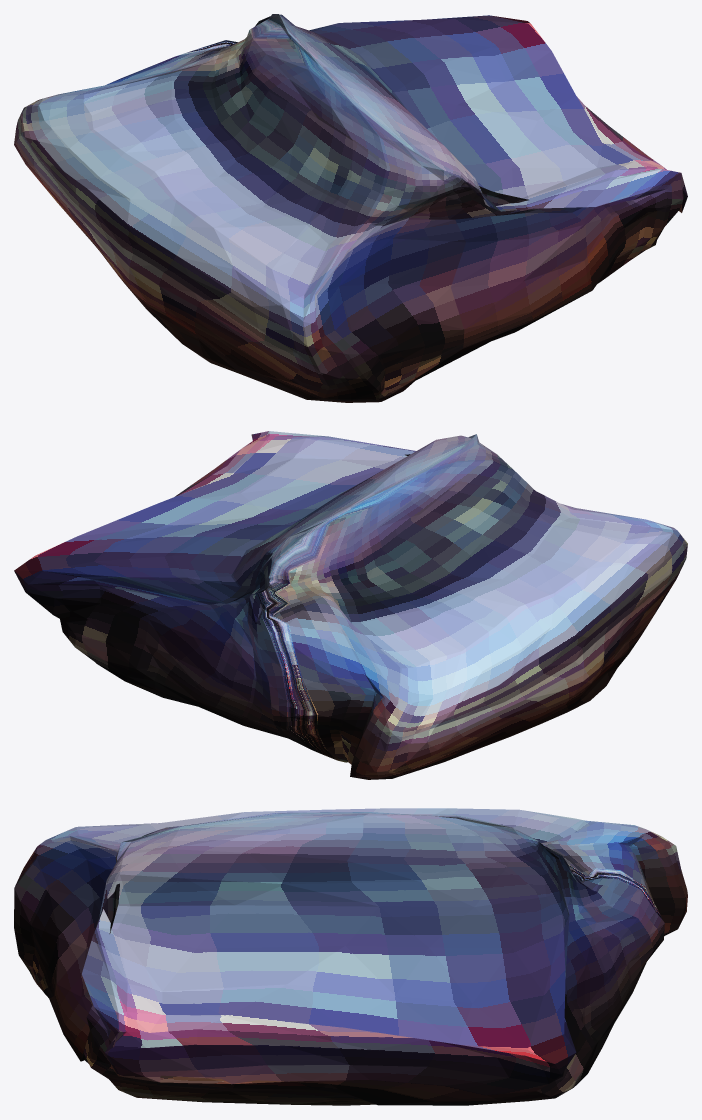
The model's file is video3_79.obj.
3 renders of one model, top to bottom at view 1: azimuth 30°, elevation 25°; view 2: azimuth 150°, elevation 25°; view 3: azimuth 270°, elevation 25°, orthographic. The views are drawn at different scales.
Bounding box in the file's own units: 0.9259 × 0.3891 × 1.
1 material, 1 textured.
